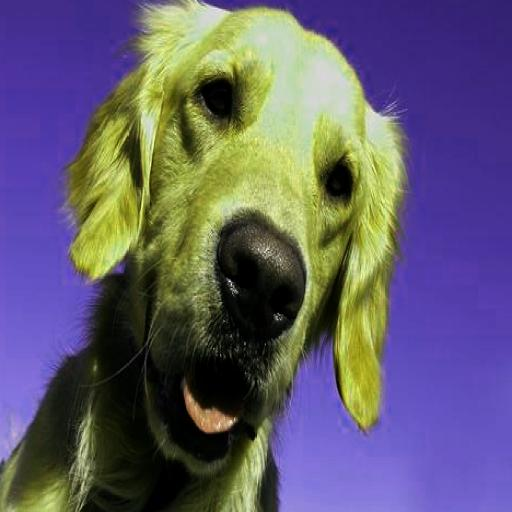dog_face: (81, 0, 392, 437)
